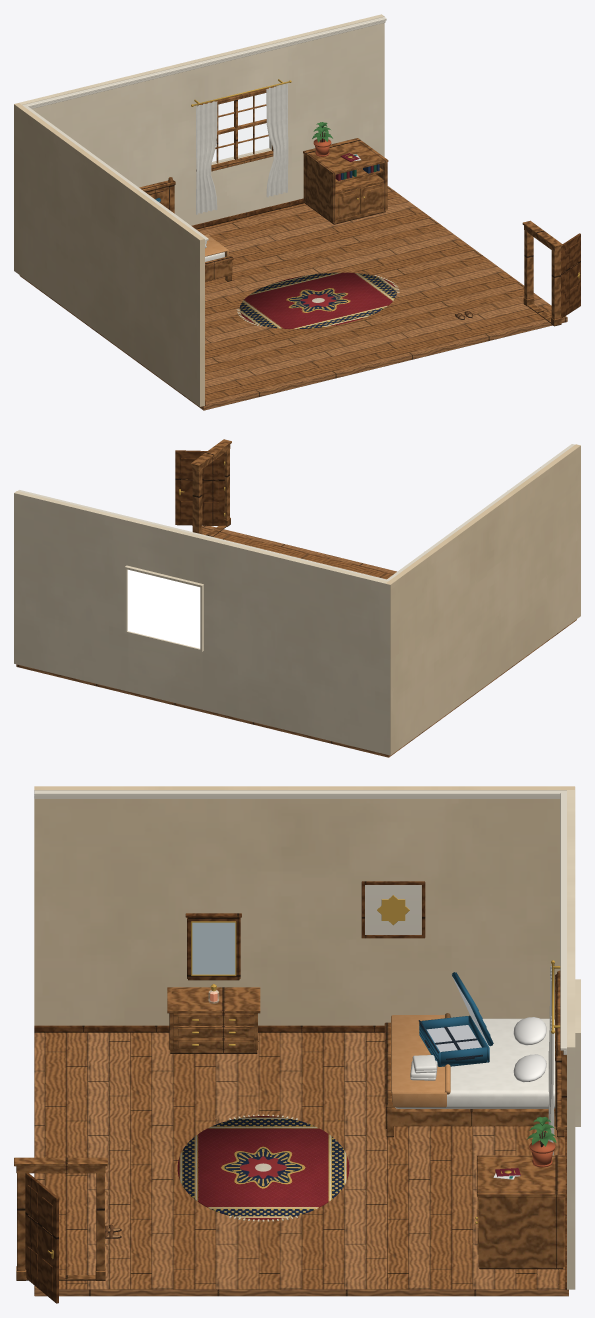
File: home.glb
3 renders of one model, top to bottom at view 1: azimuth 30°, elevation 25°; view 2: azimuth 150°, elevation 25°; view 3: azimuth 270°, elevation 25°, orthographic. The views are drawn at different scales.
Visible parts, largest first — view 1: home_static_LOD0; view 2: home_static_LOD0; view 3: home_static_LOD0, item_ihram.
Boxes of the visible parts, bbox=[...] form: home_static_LOD0: bbox=[14, 14, 580, 410]; home_static_LOD0: bbox=[14, 439, 580, 757]; home_static_LOD0: bbox=[14, 786, 580, 1303]; item_ihram: bbox=[410, 1055, 437, 1080].
Size of what is drawn, in the model's own units: 17.07 by 7.2 by 14.84.
Materials: 35 (10 with a texture image).
